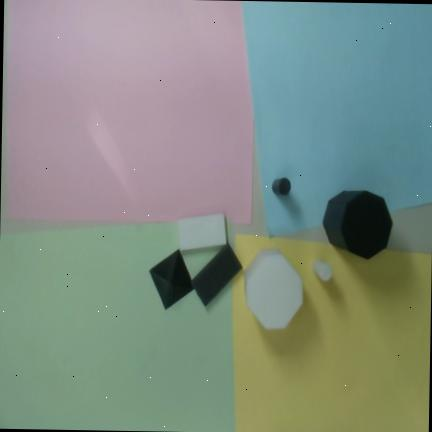Cilindro: (312, 259, 331, 281), (271, 177, 291, 195)
Paralelepipedo: (190, 243, 242, 306), (177, 213, 226, 250)
Piramide: (148, 248, 194, 309)
Prisma_hexagonal: (322, 190, 392, 259), (244, 247, 302, 329)
